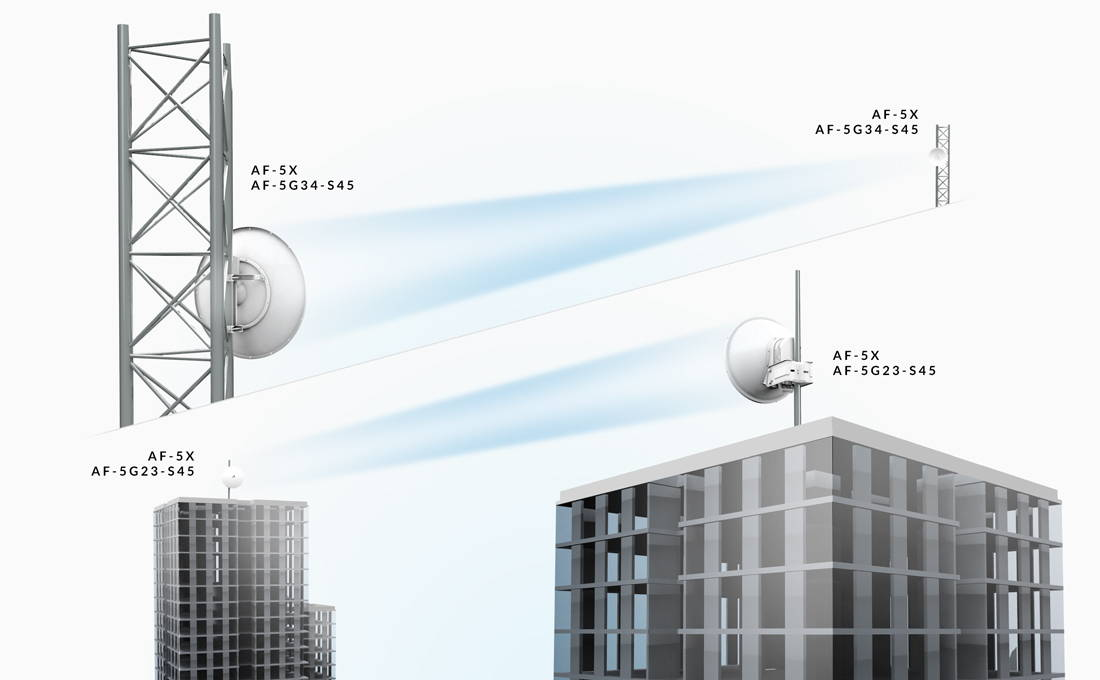ba: (187, 218, 320, 370), (718, 308, 798, 401)
